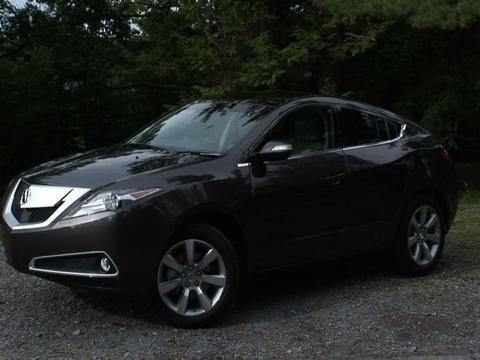car: (2, 85, 461, 331)
